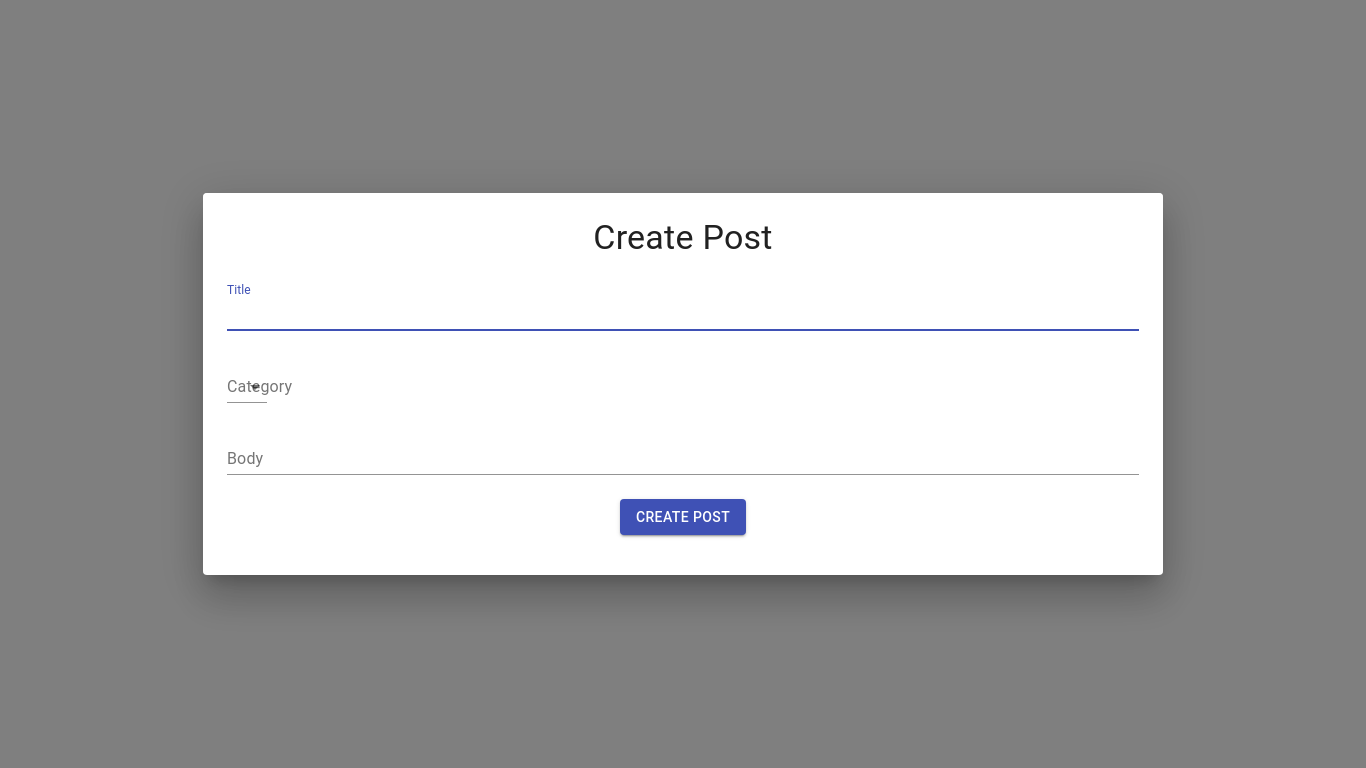
<CreatePostDialog /> › should render an error if no category is selected
In the field labelled "Title": (683, 315) [227,299,1139,331], type "test"
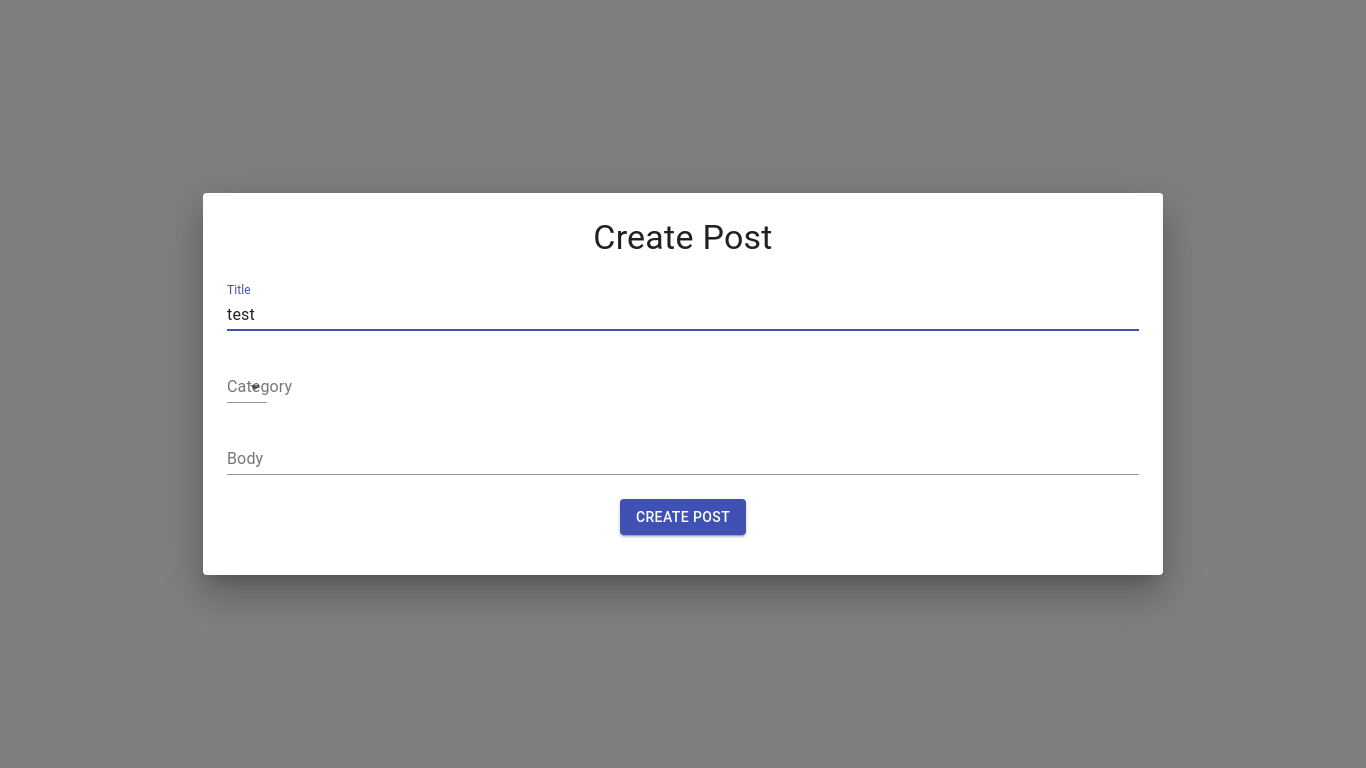
Click the button "Create Post": (683, 517) [620,499,746,535]
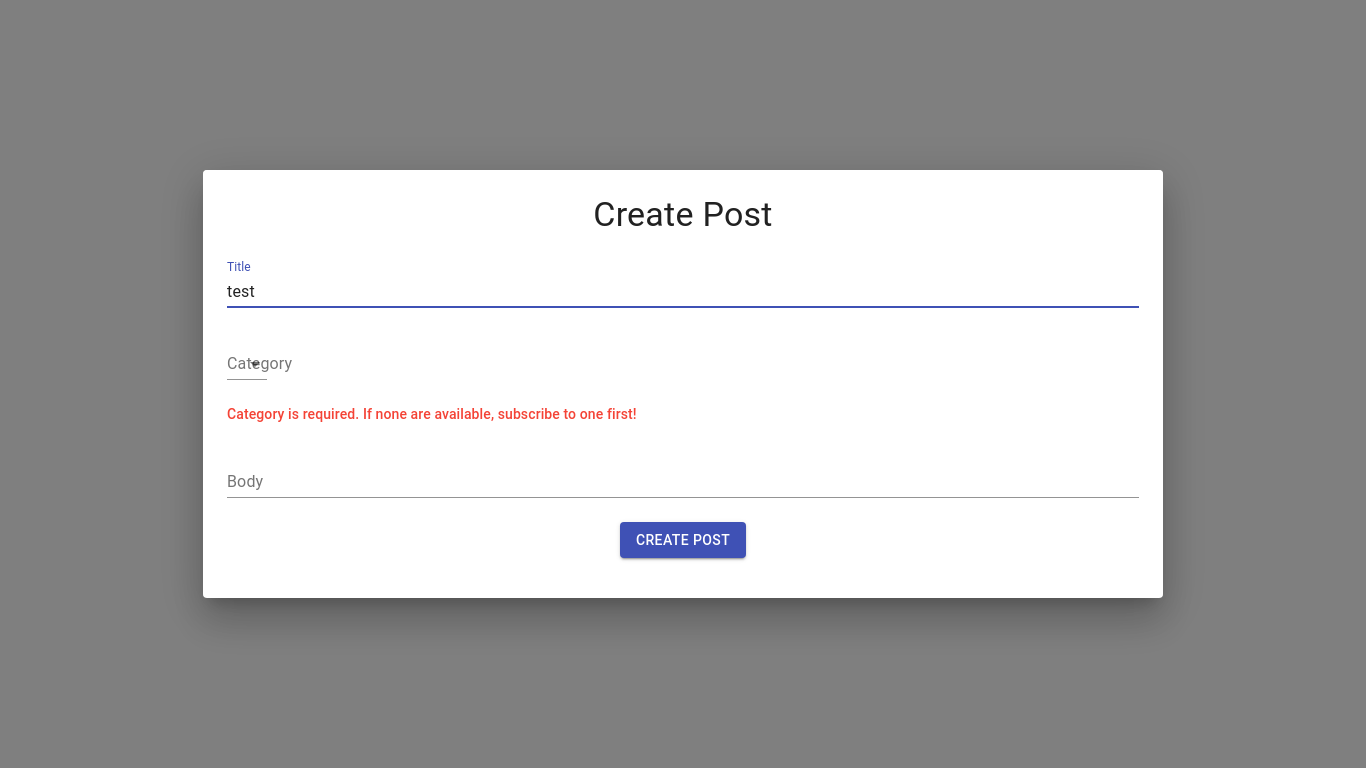
Now the text "Category is required. If none are available, subscribe to one first!" is shown, box [227,406,637,422]
